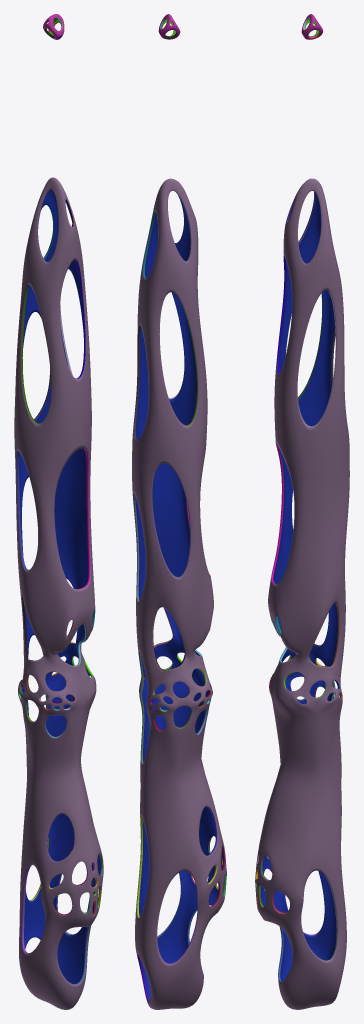
File: Organic.fbx
The picture shows the model from 3 angles, left to right: view 1: azimuth 90°, elevation 25°; view 2: azimuth 150°, elevation 25°; view 3: azimuth 330°, elevation 25°; orthographic projection.
Visible parts, largest first — view 1: Plant; view 2: Plant; view 3: Plant.
Part boxes in pixels (box(x1,y1,x2,y2)): Plant: box(14, 14, 103, 1009); Plant: box(132, 14, 226, 1009); Plant: box(255, 14, 349, 1009).
Size of the model in its own units: 8.1 by 100 by 8.2.
